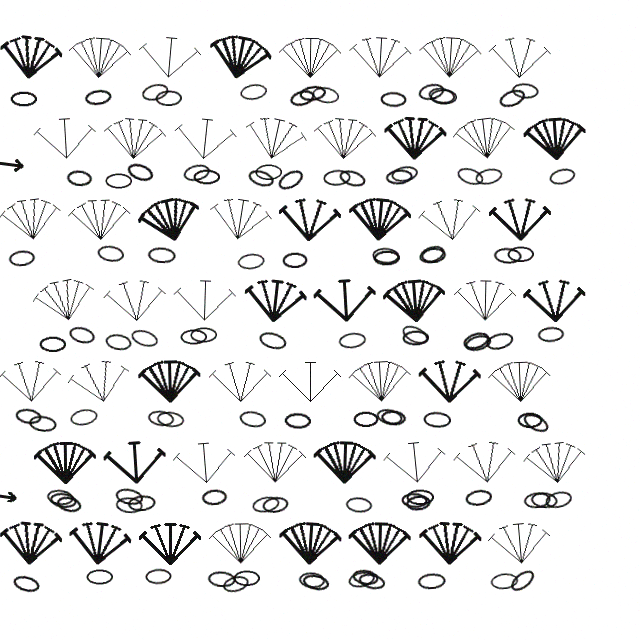chain: (507, 566, 538, 595), (275, 166, 306, 193), (399, 322, 431, 348), (520, 410, 551, 436), (497, 86, 527, 110), (125, 160, 155, 184), (417, 242, 447, 266), (129, 327, 160, 350), (257, 329, 288, 352), (246, 167, 276, 190), (337, 167, 367, 190), (455, 165, 485, 188), (461, 329, 491, 352), (484, 330, 515, 352), (140, 81, 170, 103), (67, 324, 97, 346), (463, 332, 493, 354), (11, 573, 41, 595), (221, 573, 251, 595), (288, 87, 317, 109), (474, 166, 504, 187), (114, 486, 144, 507), (251, 494, 281, 515), (417, 81, 446, 102), (182, 162, 211, 183), (548, 166, 577, 187), (544, 489, 573, 510), (301, 572, 330, 593), (347, 569, 376, 590), (357, 571, 386, 592), (69, 407, 99, 427), (55, 494, 83, 515), (239, 82, 268, 102), (311, 85, 340, 105), (390, 164, 419, 184), (104, 332, 133, 352), (238, 409, 267, 429), (375, 407, 404, 427), (298, 84, 327, 103), (427, 86, 456, 105), (96, 244, 125, 263), (338, 331, 367, 350), (14, 407, 43, 426), (28, 414, 57, 433), (156, 410, 185, 429), (261, 495, 290, 514), (464, 488, 493, 507), (351, 568, 380, 587), (84, 88, 112, 107), (237, 252, 265, 271), (147, 409, 175, 428), (46, 488, 74, 507), (49, 491, 77, 510), (147, 246, 176, 264), (127, 494, 156, 512), (207, 570, 236, 588), (417, 572, 446, 590), (490, 572, 519, 590), (511, 82, 539, 100), (385, 168, 413, 186), (8, 249, 36, 267), (115, 496, 143, 514), (345, 496, 373, 514), (530, 491, 558, 509), (523, 491, 551, 509), (298, 571, 326, 589), (493, 247, 522, 264), (66, 169, 93, 187), (420, 246, 447, 264), (380, 409, 407, 427), (201, 488, 228, 506), (405, 494, 432, 512), (323, 169, 351, 186), (537, 326, 565, 343), (423, 411, 451, 428), (380, 91, 407, 108), (372, 247, 399, 264), (284, 412, 311, 429), (401, 492, 428, 509), (145, 568, 172, 585), (406, 489, 434, 505), (10, 91, 37, 107), (155, 90, 182, 106), (430, 89, 457, 105), (105, 173, 132, 189), (193, 169, 220, 185), (255, 164, 282, 180), (373, 250, 400, 266), (507, 246, 534, 262), (39, 336, 66, 352), (180, 329, 207, 345), (190, 327, 217, 343), (402, 330, 429, 346), (86, 569, 113, 585), (233, 570, 260, 586), (282, 252, 308, 268), (353, 411, 379, 427), (517, 412, 543, 428)
fan: (240, 110, 310, 168), (135, 191, 205, 249), (205, 29, 274, 86), (30, 272, 99, 329), (65, 354, 134, 410), (206, 192, 274, 247), (451, 112, 518, 165), (66, 517, 133, 570), (172, 113, 238, 165), (417, 194, 483, 246), (242, 275, 308, 327), (522, 437, 588, 489), (0, 31, 64, 84), (0, 193, 64, 246), (382, 437, 448, 488), (452, 437, 518, 488), (137, 32, 202, 83), (347, 194, 412, 245), (487, 518, 552, 569), (67, 33, 132, 83), (102, 114, 167, 164), (312, 114, 377, 164), (277, 195, 342, 245), (382, 276, 447, 326), (172, 438, 237, 488), (0, 518, 63, 569), (523, 114, 587, 164), (103, 276, 167, 326), (348, 33, 412, 82), (418, 33, 482, 82), (33, 114, 97, 163), (383, 114, 447, 163), (313, 276, 377, 325), (348, 357, 412, 406), (103, 438, 167, 487), (278, 519, 342, 568), (418, 519, 482, 568), (0, 357, 62, 406), (488, 34, 551, 82), (68, 196, 131, 244), (523, 277, 586, 325), (488, 358, 551, 406), (173, 277, 236, 324), (138, 358, 201, 405), (418, 358, 481, 405), (313, 439, 376, 486), (348, 520, 411, 567), (489, 196, 551, 243), (454, 277, 516, 324), (244, 439, 306, 486), (209, 520, 271, 567), (279, 35, 341, 81), (209, 359, 271, 405), (279, 359, 341, 405), (34, 440, 96, 486), (139, 521, 201, 567)
noise: (0, 156, 26, 173), (0, 490, 19, 503)
